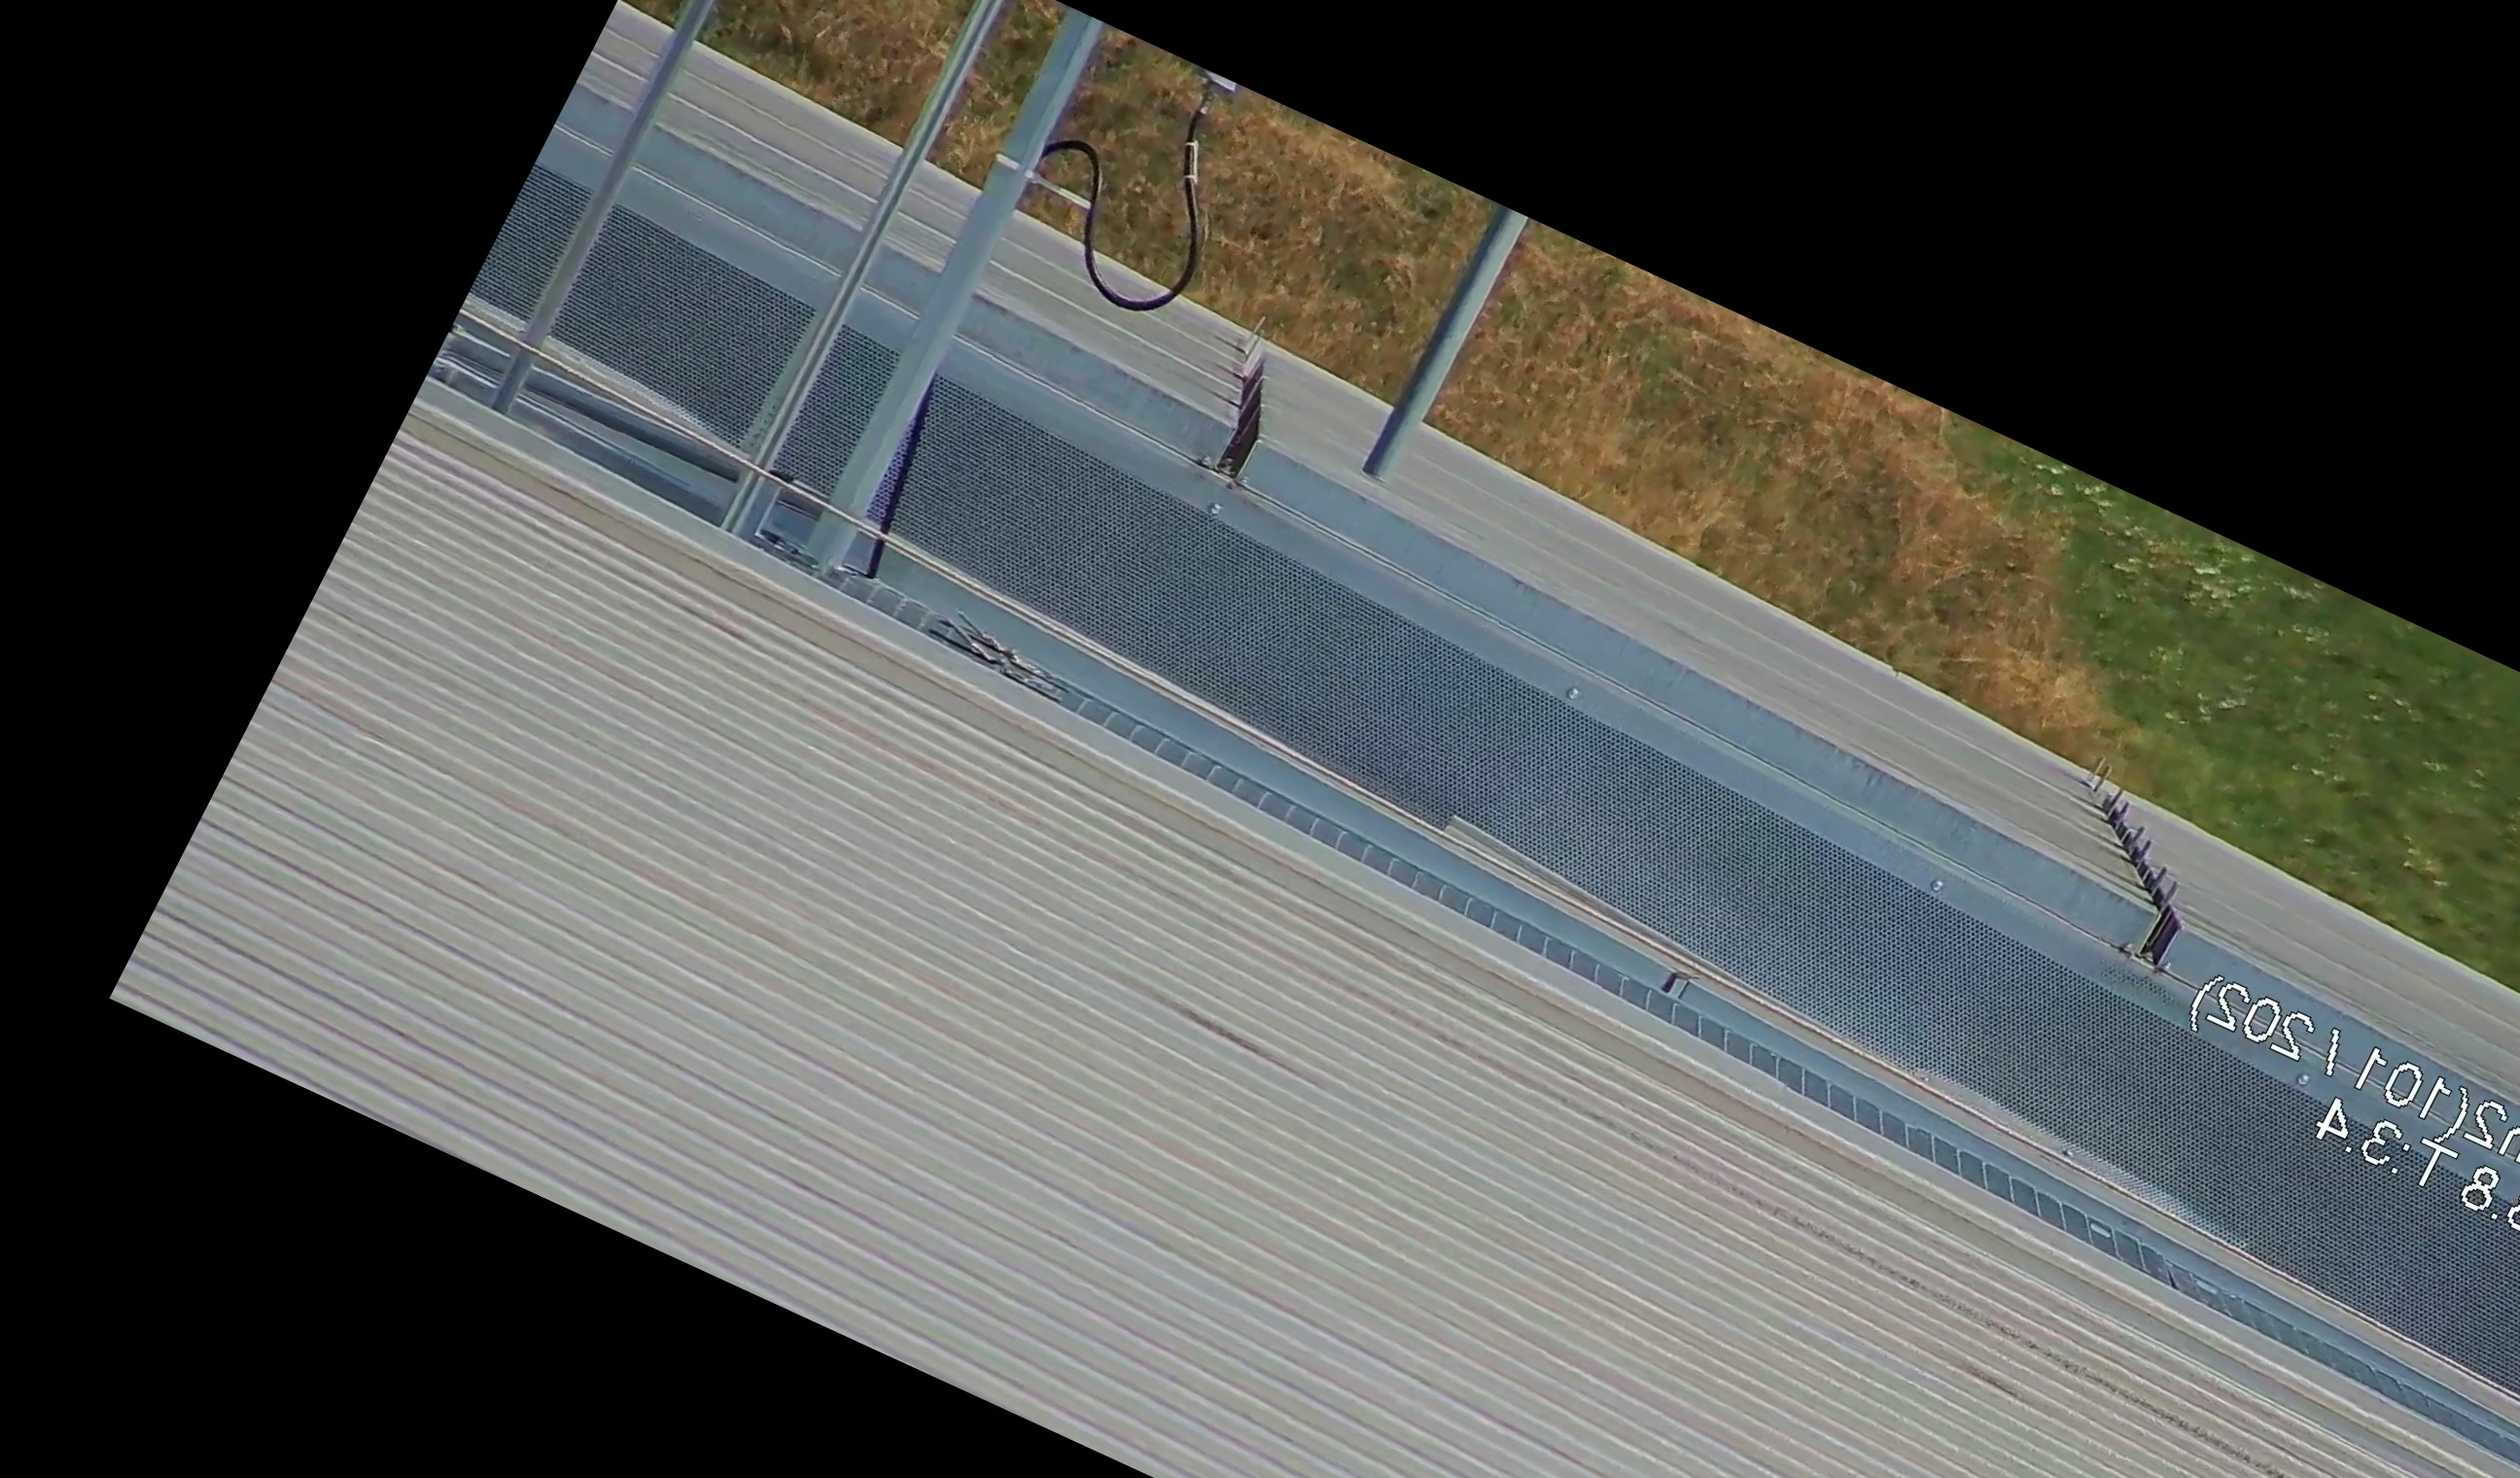Other: (1162, 317, 1315, 487)
